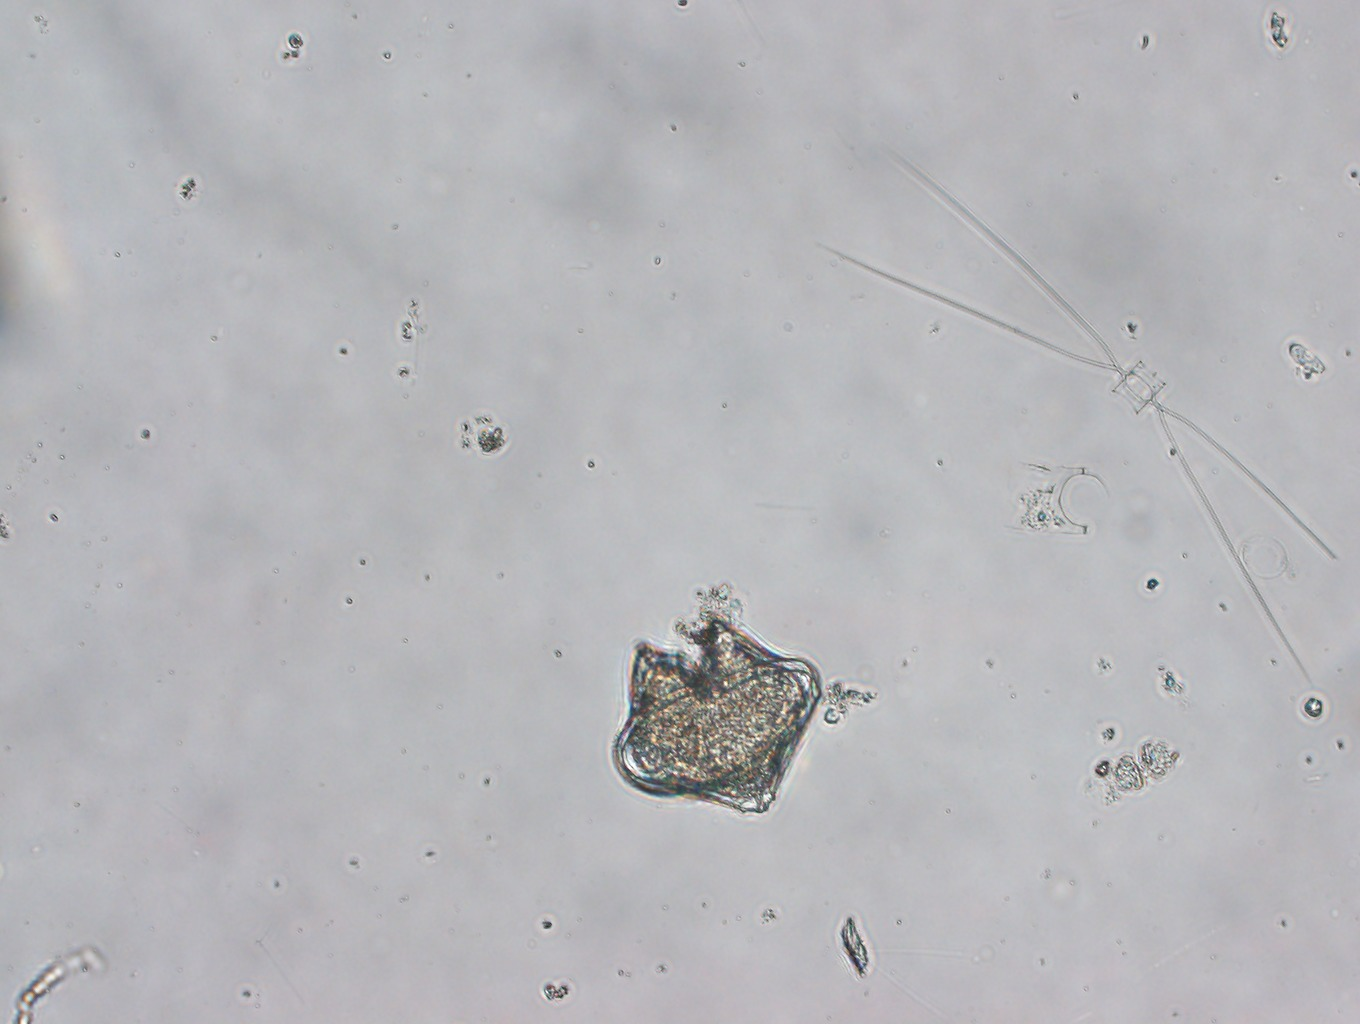chaetoceros: (820, 142, 1340, 685)
protoperidinium: (609, 622, 820, 816)
